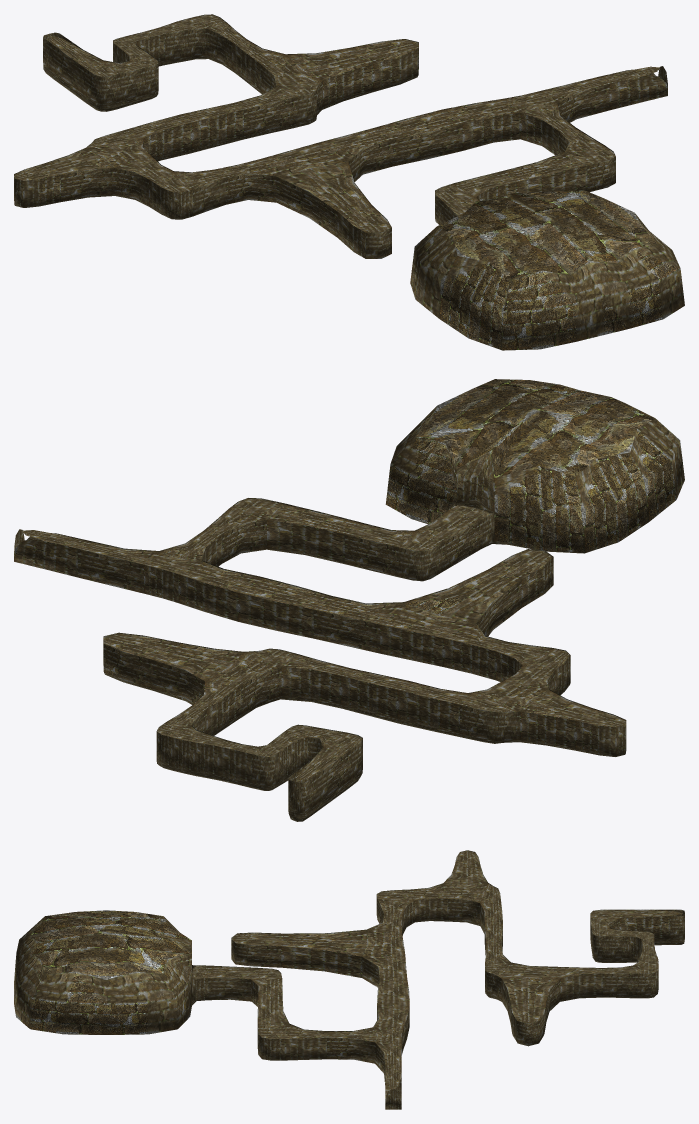
Rendered from juraj_level3.glb.
3 renders of one model, top to bottom at view 1: azimuth 30°, elevation 25°; view 2: azimuth 150°, elevation 25°; view 3: azimuth 270°, elevation 25°, orthographic. The views are drawn at different scales.
Visible parts, largest first — view 1: Cube.001; view 2: Cube.001; view 3: Cube.001.
Boxes of the visible parts, x1,y1,x2,y2 form: Cube.001: [14, 14, 684, 350]; Cube.001: [14, 379, 684, 821]; Cube.001: [14, 850, 684, 1109].
Size of the model in its own units: 151 by 19.74 by 180.
1 material, 1 textured.
